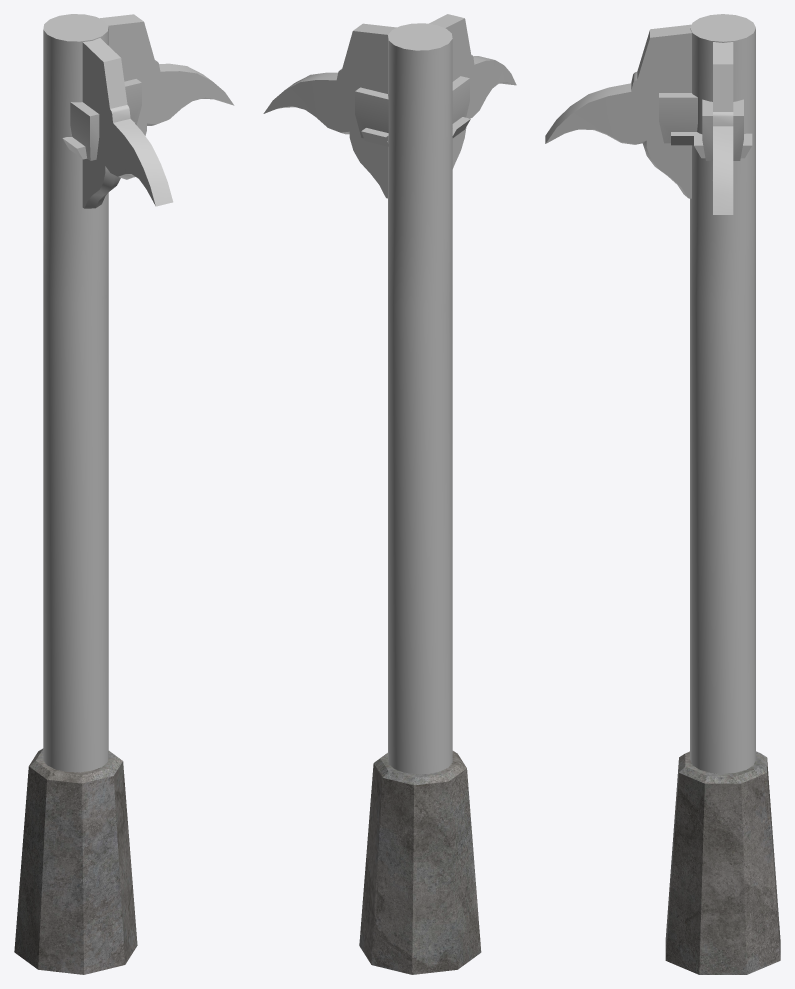
Rendered from SM_Pillar_13.FBX.
3 views of the same model, side by side, from view 1: azimuth 30°, elevation 25°; view 2: azimuth 150°, elevation 25°; view 3: azimuth 270°, elevation 25° (orthographic).
Visible parts, largest first — view 1: SM_Pillar_13; view 2: SM_Pillar_13; view 3: SM_Pillar_13.
Boxes of the visible parts, x1,y1,x2,y2 form: SM_Pillar_13: (14, 14, 234, 974); SM_Pillar_13: (263, 14, 516, 974); SM_Pillar_13: (545, 14, 780, 974).
Bounding box in the file's own units: 248 × 1074 × 248.
